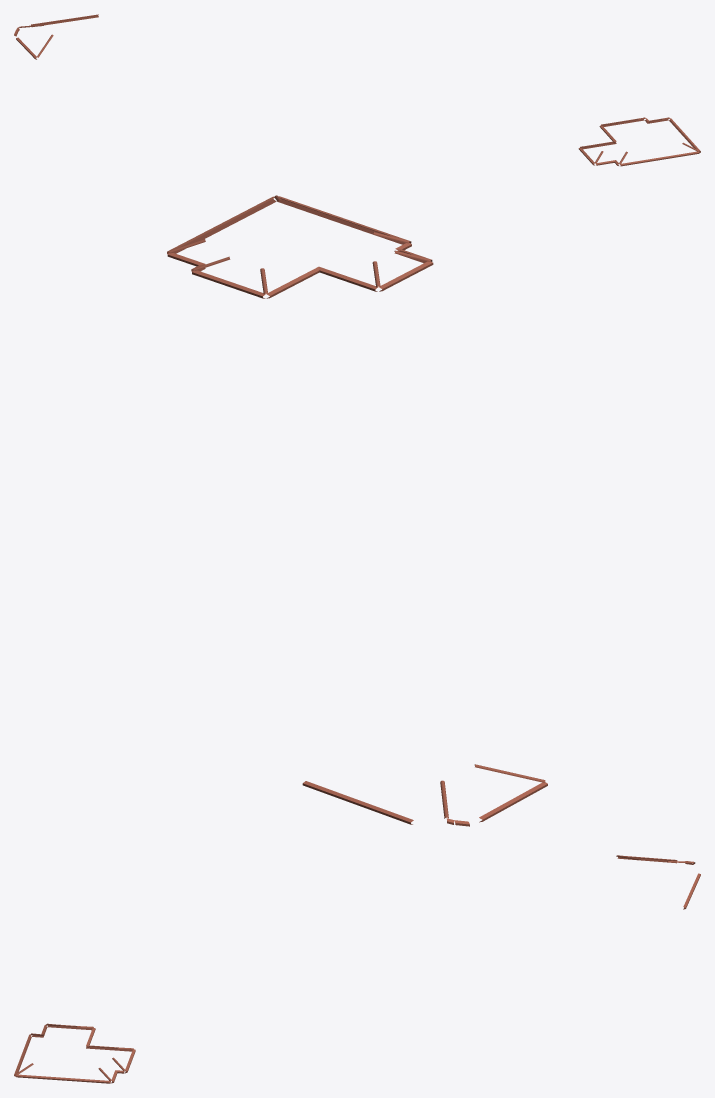
The picture shows the model from 3 angles, top to bottom: view 1: azimuth 30°, elevation 25°; view 2: azimuth 150°, elevation 25°; view 3: azimuth 270°, elevation 25°; orthographic projection. The views are drawn at different scales.
Parts seen in each view (by area): view 1: detail; view 2: detail; view 3: detail.
Part boxes in pixels (bbox=[...]): detail: bbox=[14, 14, 700, 166]; detail: bbox=[167, 195, 547, 826]; detail: bbox=[14, 855, 700, 1083].
Bounding box in the file's own units: 62.97 × 1.84 × 79.59.
